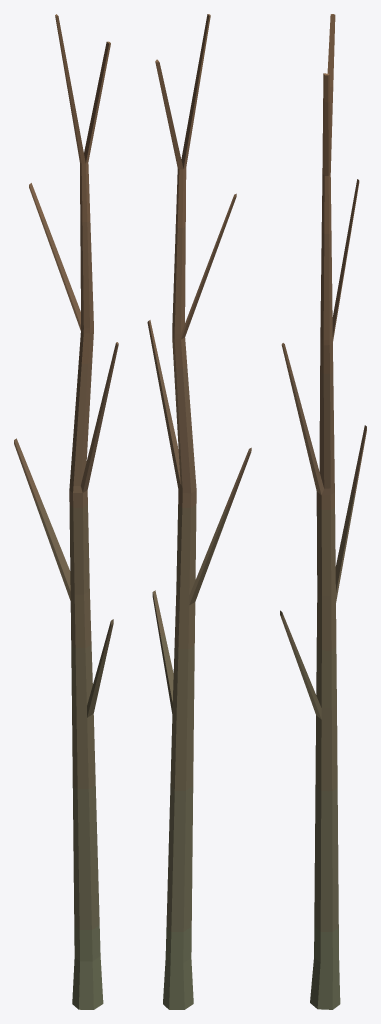
File: PoplarDead_001.fbx
3 views of the same model, side by side, from view 1: azimuth 30°, elevation 25°; view 2: azimuth 210°, elevation 25°; view 3: azimuth 270°, elevation 25° (orthographic).
Visible parts, largest first — view 1: PoplarDead.001; view 2: PoplarDead.001; view 3: PoplarDead.001.
Part boxes in pixels (<box>): PoplarDead.001: <box>14,14,118,1009</box>; PoplarDead.001: <box>147,14,251,1009</box>; PoplarDead.001: <box>280,14,366,1009</box>.
Size of the model in its own units: 1.16 by 14.24 by 1.15.
